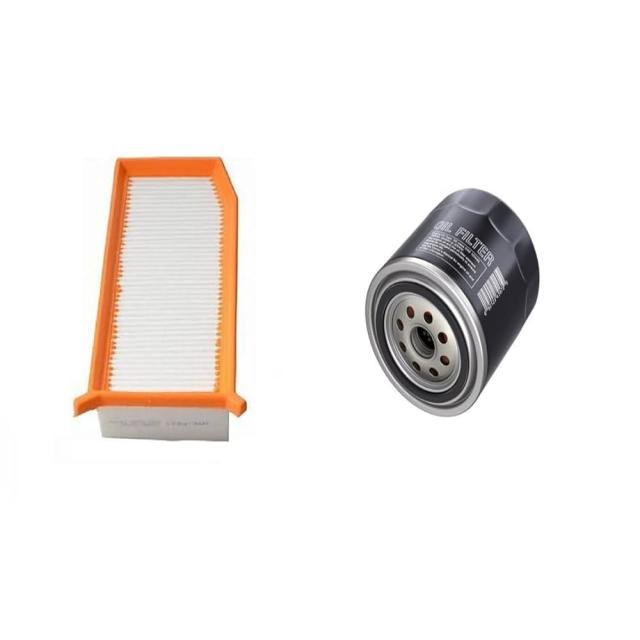air_filter: (69, 148, 250, 458)
oil_filter: (358, 177, 546, 423)
